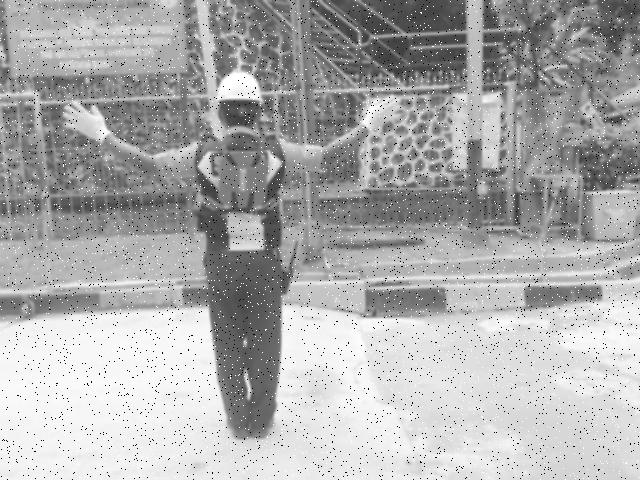gloves: (60, 98, 114, 148), (356, 93, 405, 133)
helmet: (215, 68, 265, 106)
safety-shoes: (250, 412, 279, 438), (225, 414, 252, 440)
vest: (217, 148, 270, 211)
